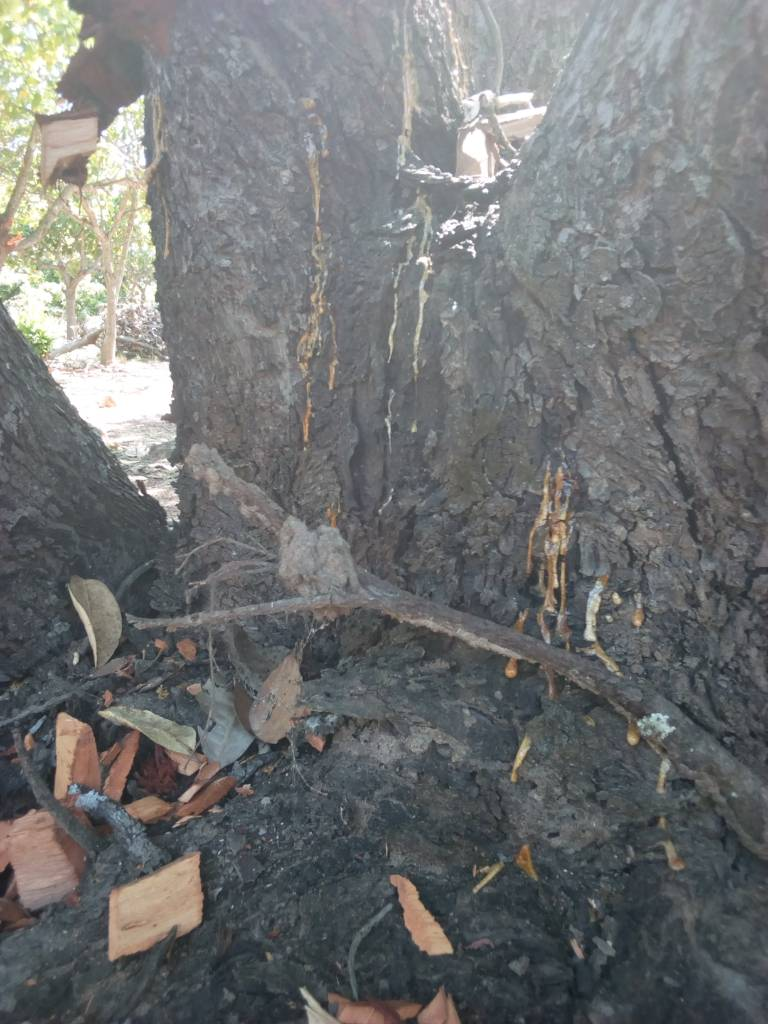Gommose: (291, 77, 344, 436), (518, 457, 619, 635)
